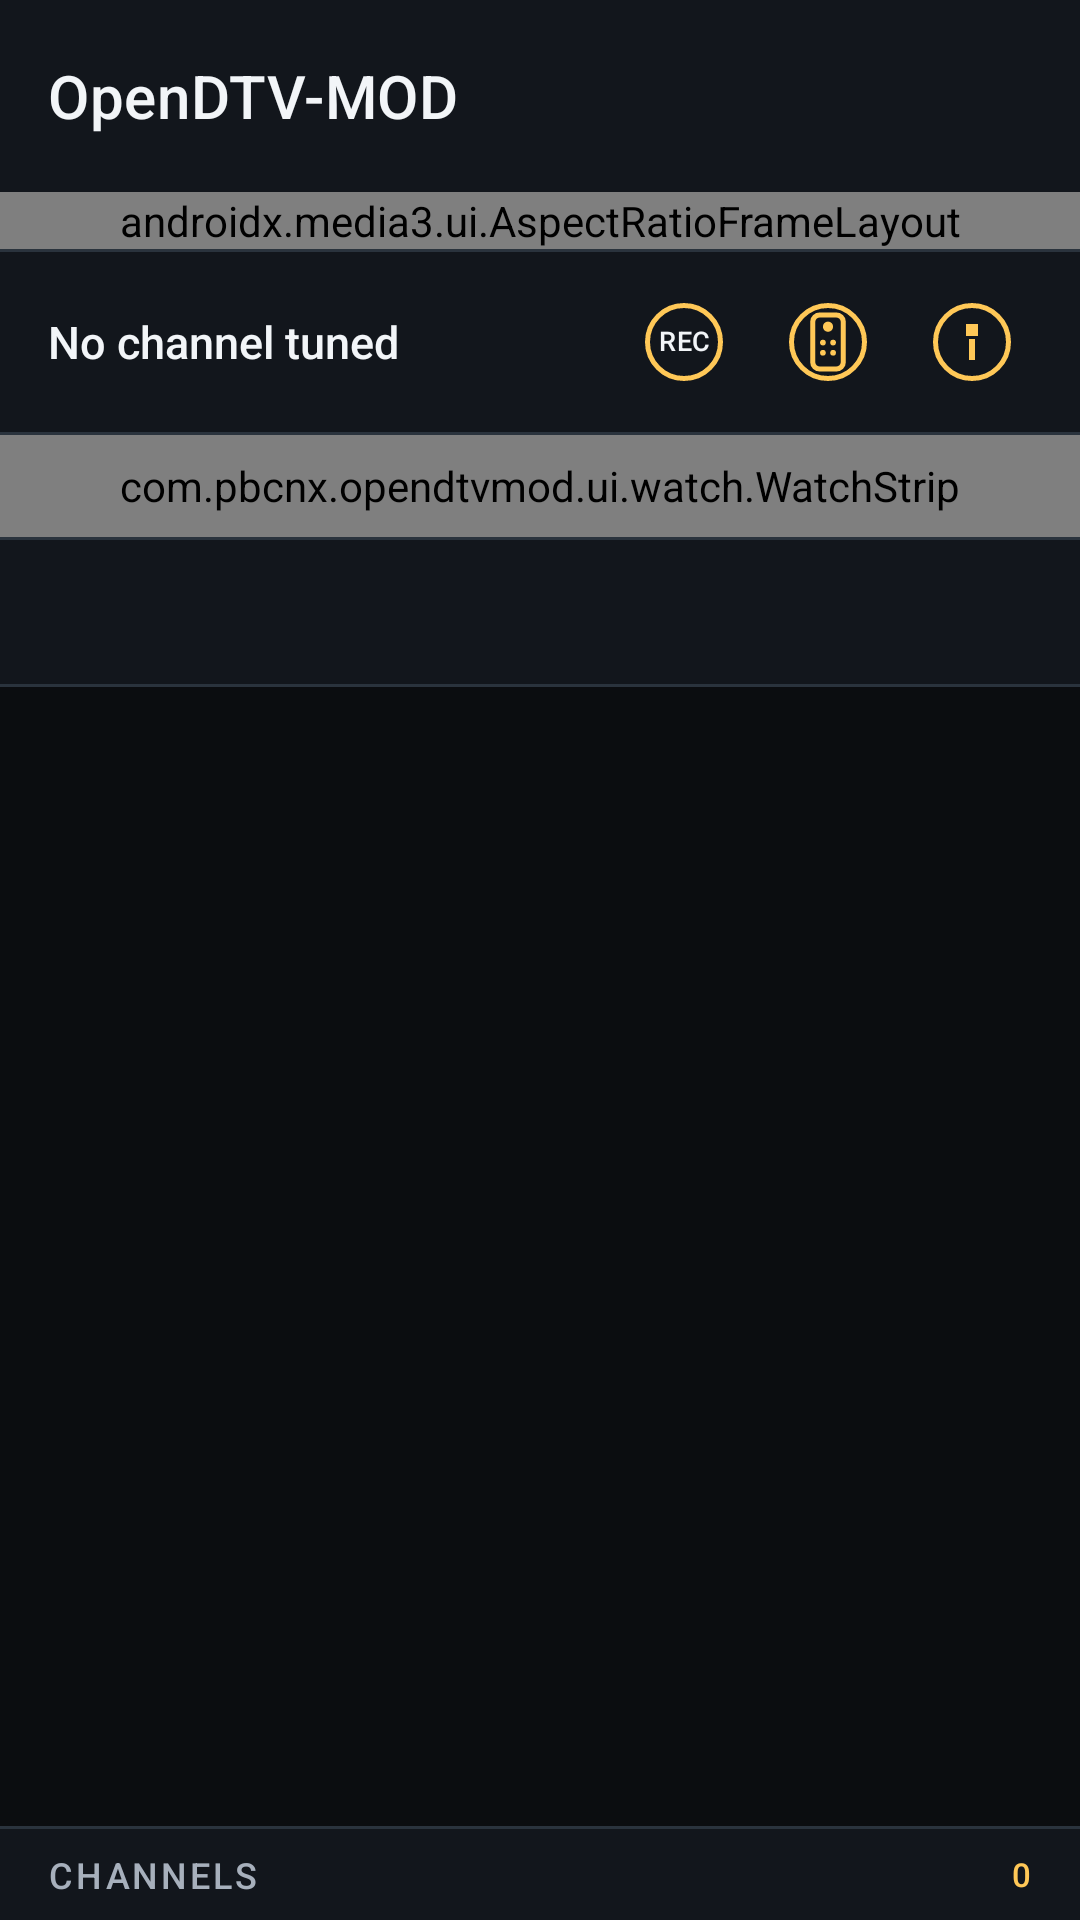

Icon bounding boxes for this 1080×1920 phone screenshot, format (x1,y1,x2,y2):
Remote: (789,303,867,381)
Watch info: (933,303,1011,381)
